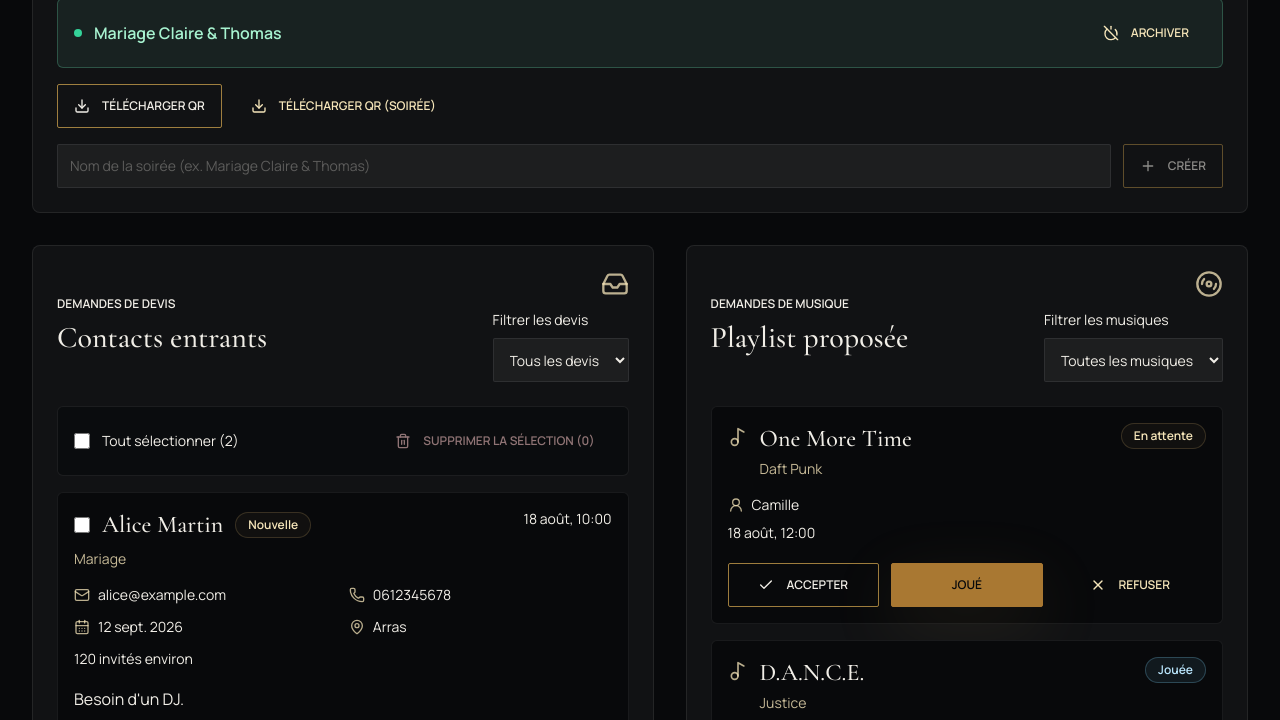
AdminPage › filters quote requests by status
The width and height of the screenshot is (1280, 720).
(page scrolled)
Check: the heading "Alice Martin" is shown, box [102,509,223,541]
Select "Traitée" in the dropdown labelled "Filtrer les devis". click: [561, 360]
box: [493,338,629,382]
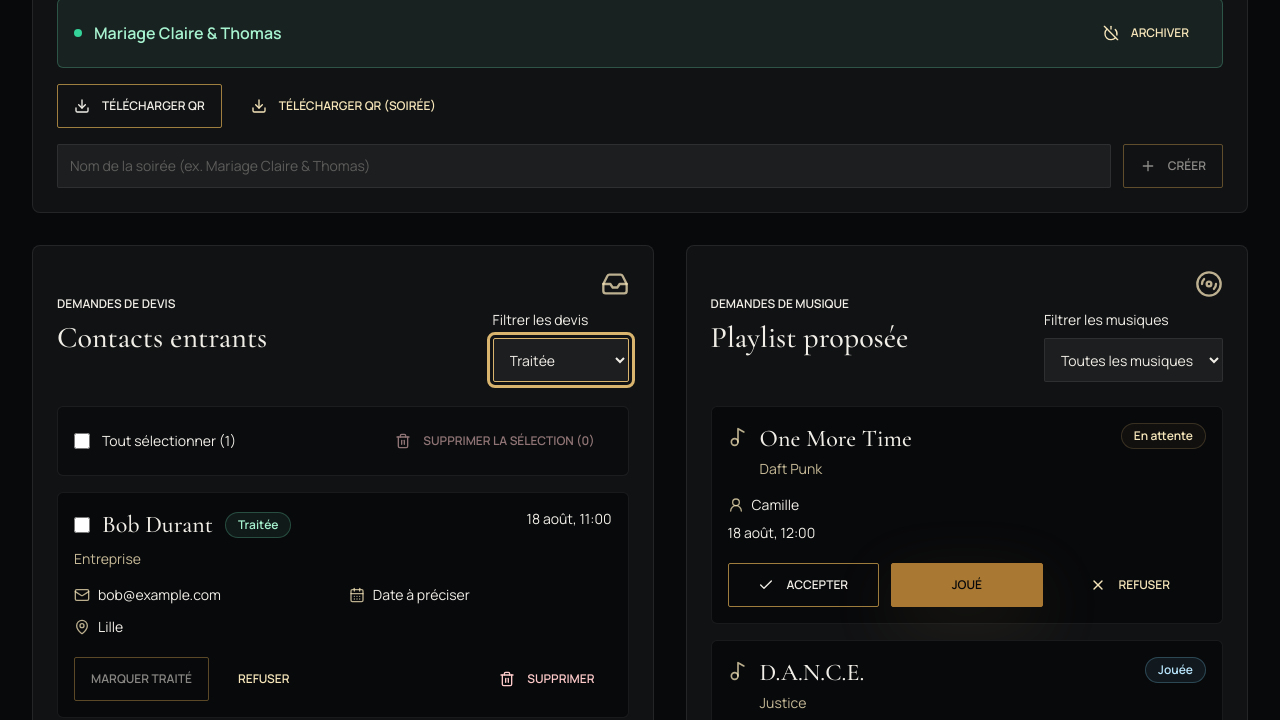
Check: the heading "Bob Durant" is shown, box [102,509,213,541]
Check: the heading "Alice Martin" is gone
